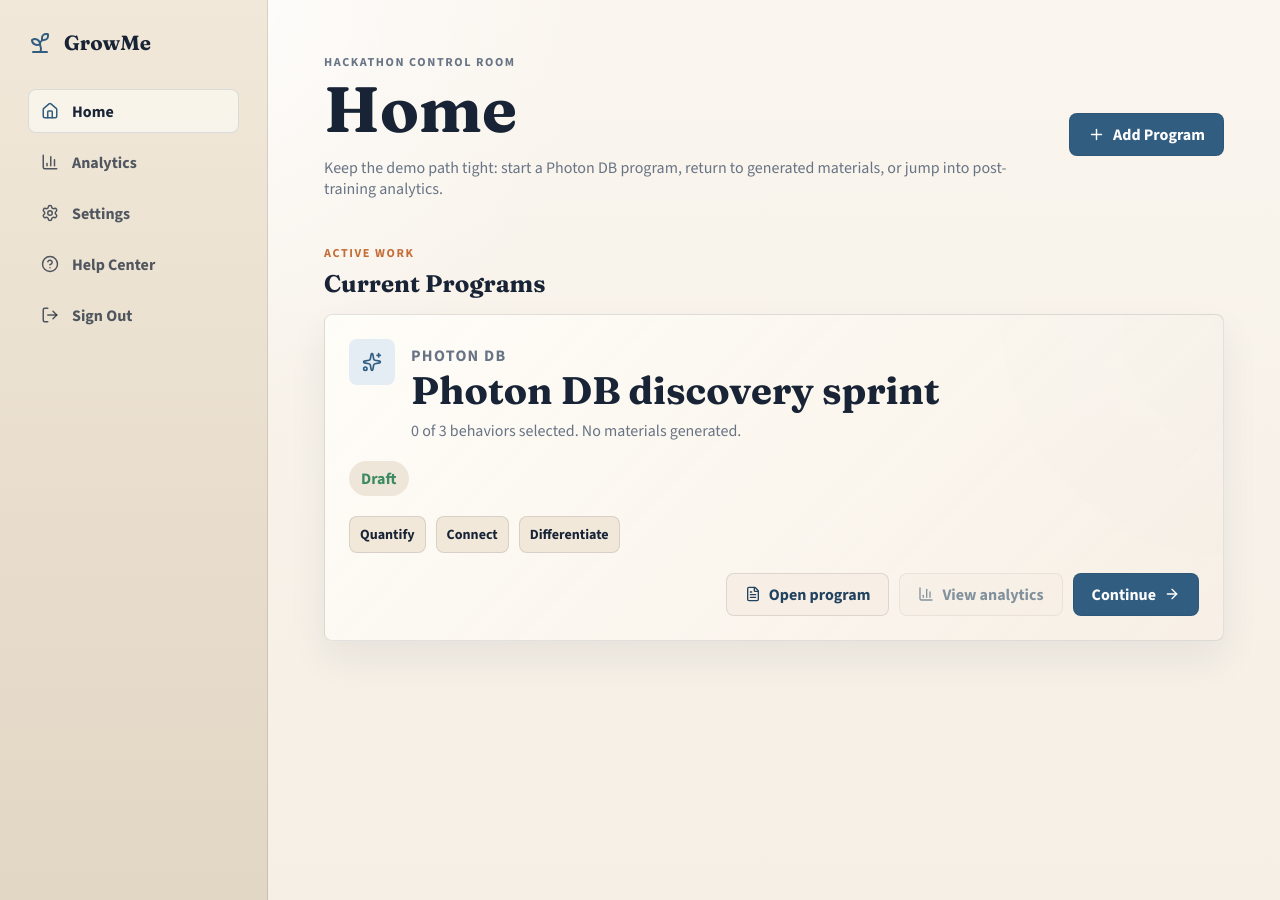
Scenario: GrowMe React app › renders Home by default with the hackathon sidebar and opens Step 1 from Add Program
Check: the heading "Current Programs" is shown, box x1=324 y1=269 x2=545 y2=298
Check: the button "Home" is shown, box x1=28 y1=89 x2=239 y2=133
Step 1. Click the button "Add Program" → click(1147, 134), box x1=1069 y1=113 x2=1224 y2=156
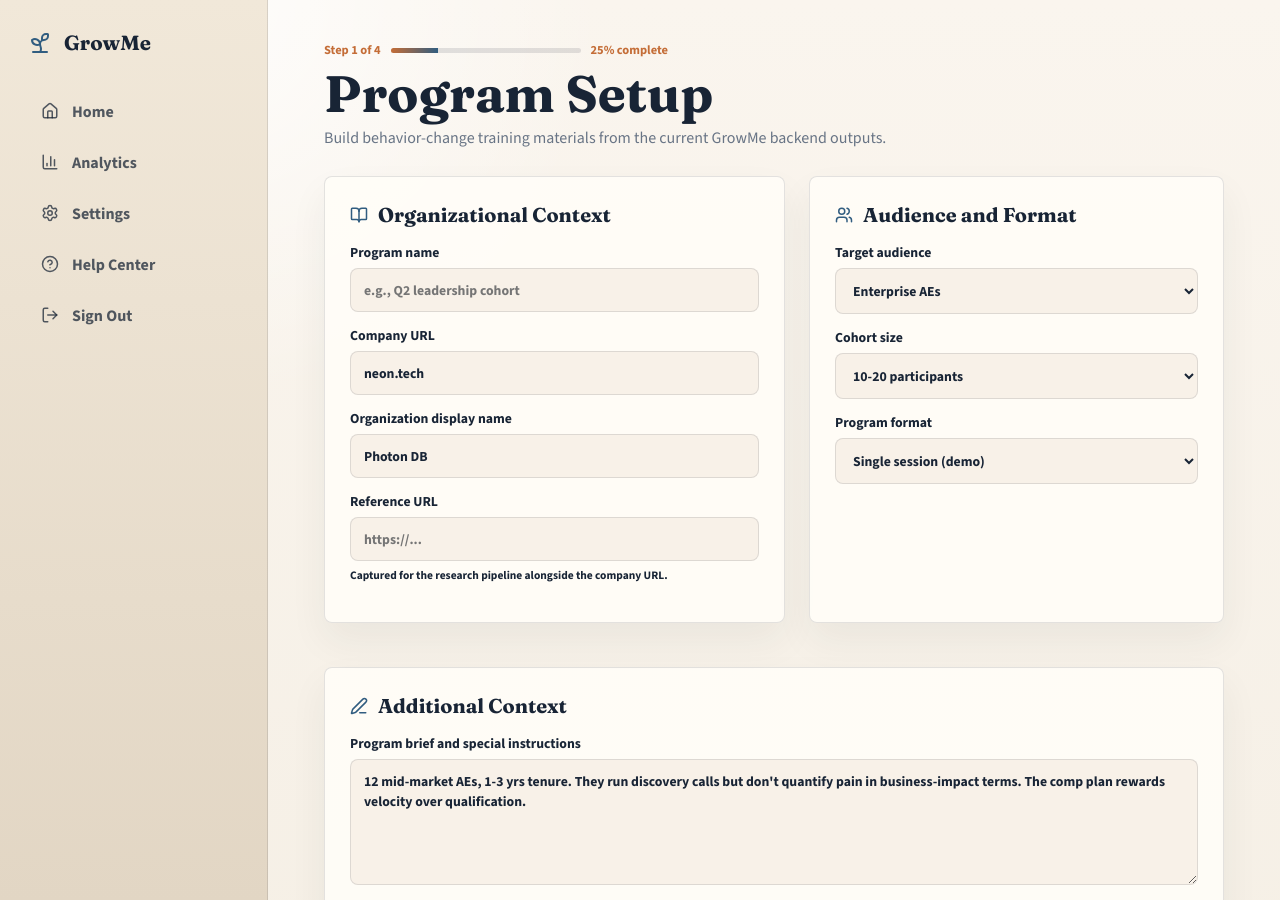
Check: the heading "Program Setup" is shown, box x1=324 y1=62 x2=713 y2=125
Check: the field labelled "Organization display name" holds "Photon DB", box x1=350 y1=434 x2=759 y2=478
